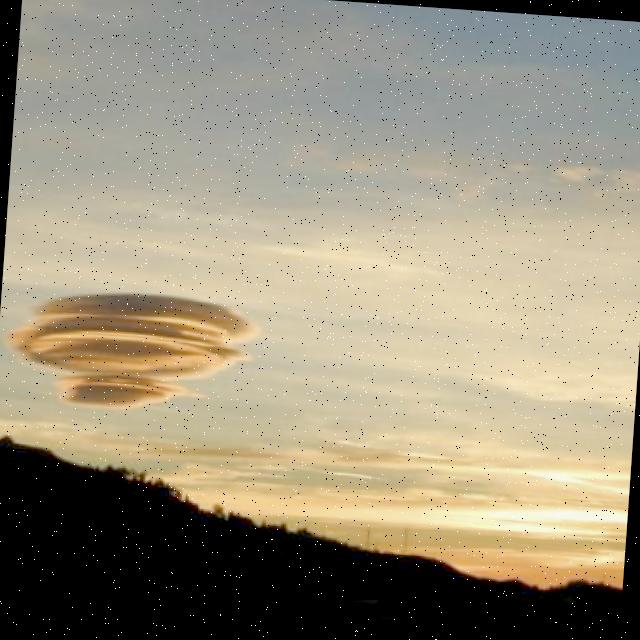Ac: (1, 279, 265, 432)
